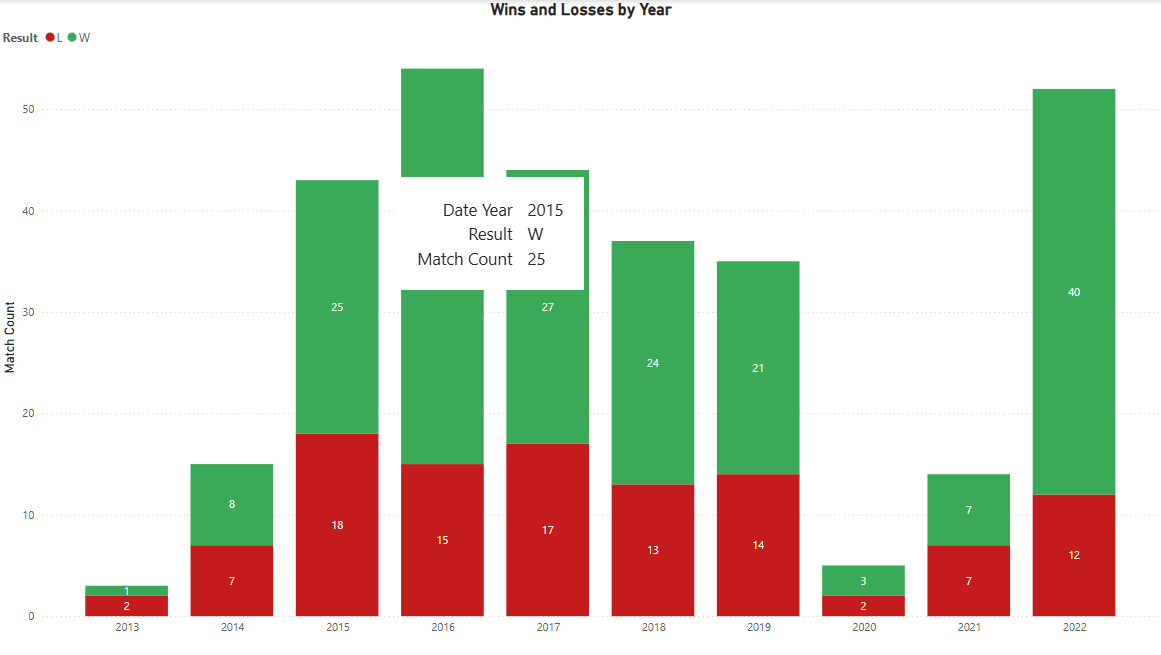

The dashboard page shown, as its layout file describes it:
{"tool":"powerbi","page":{"name":"W&L by year","canvas":[1280,720],"ordinal":2},"visuals":[{"type":"columnChart","title":"Wins and Losses by Year","fields":{"Category":["Nick_Kyrgios_Tum_Maclar.Date.Variation.Date Hierarchy.Year"],"Series":["Nick_Kyrgios_Tum_Maclar.Sonuç"],"Y":["CountNonNull(Nick_Kyrgios_Tum_Maclar.Sonuç)"]},"box":[0,0,1280.3,720.4],"z":0}]}

Visuals, with their boxes in screenshot pixels (x1, y1, x2, y2), scaled from the page's 1280x720 canvas onto the 1161x655 screenshot:
"Wins and Losses by Year" columnChart: 0/0/1160/654
